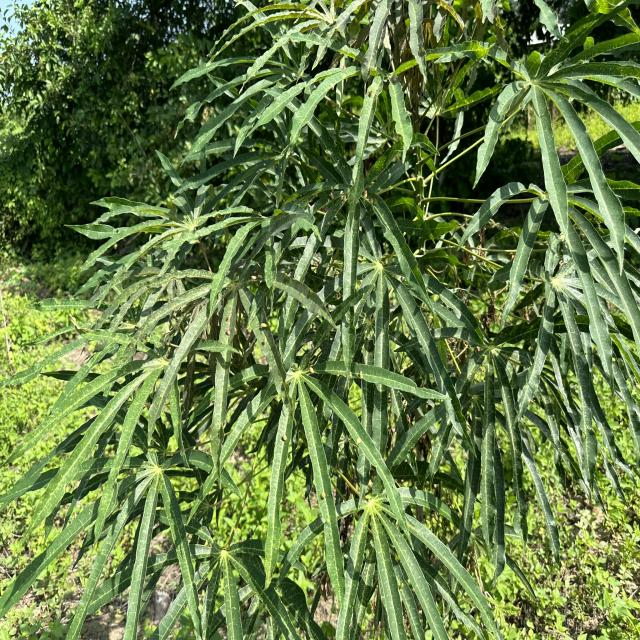Maleza: (0, 0, 155, 177)
Mosca: (254, 338, 275, 353), (355, 368, 373, 385), (254, 317, 273, 333), (311, 489, 331, 504), (280, 429, 294, 450), (309, 362, 319, 379), (220, 328, 232, 340)
